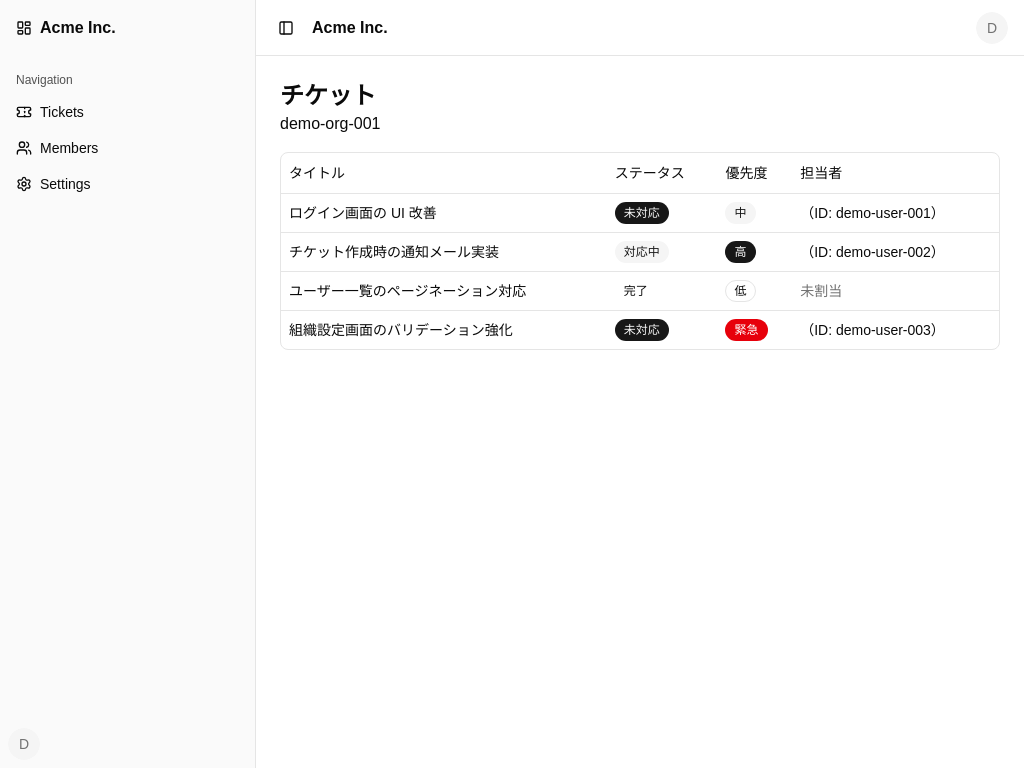
Test: OrganizationTicketsPage › タイトルリンククリックで詳細 skeleton へ遷移する
The image size is (1024, 768).
Click the link "ログイン画面の UI 改善" at (363, 212), box x1=289 y1=204 x2=437 y2=220
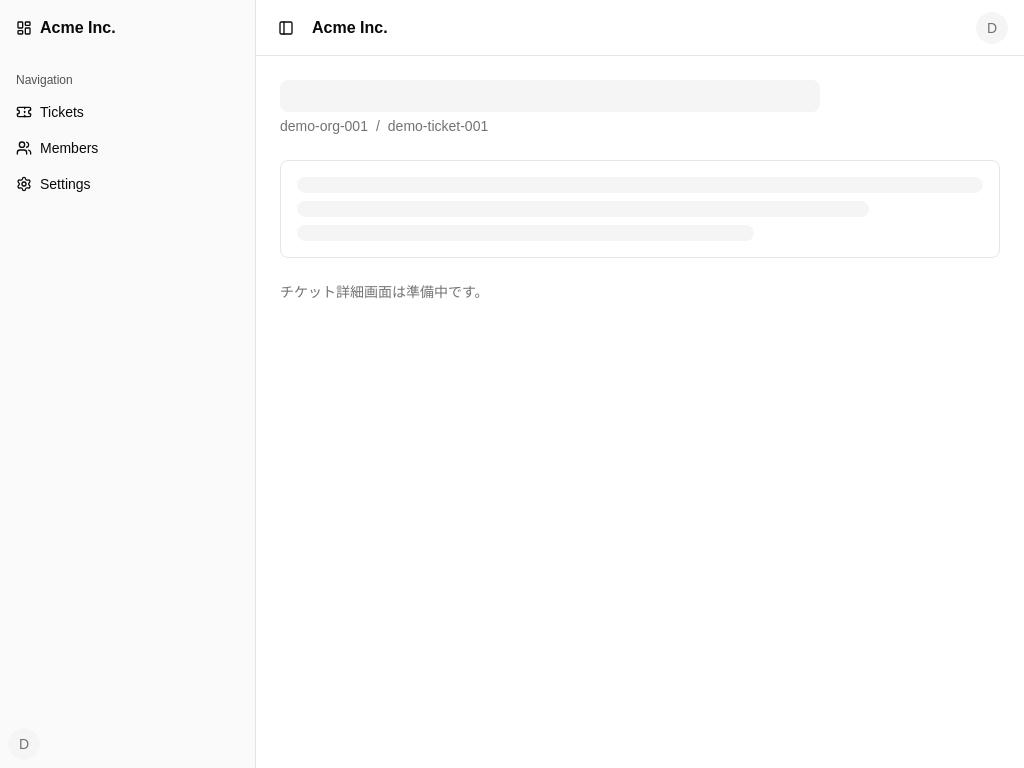
Expected: the text with test id "ticket-detail-ticket-id" reads "demo-ticket-001", x1=388 y1=118 x2=488 y2=134
Expected: the text "チケット詳細画面は準備中です。" is shown, x1=280 y1=284 x2=489 y2=300
